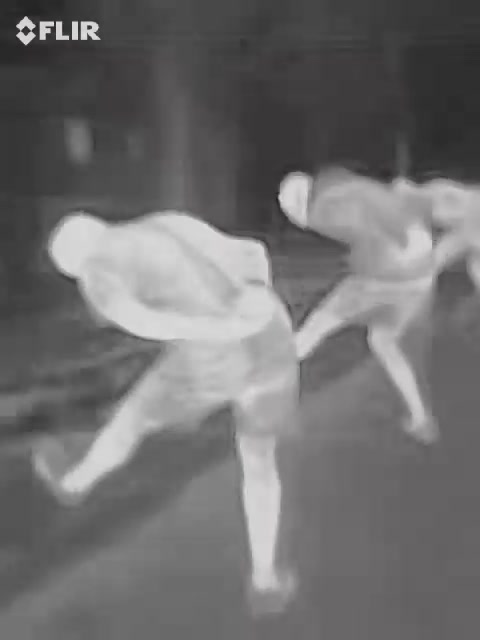head: (44, 206, 114, 290)
